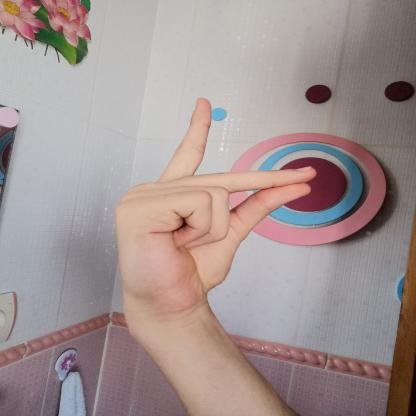TAA: (101, 88, 324, 323)
